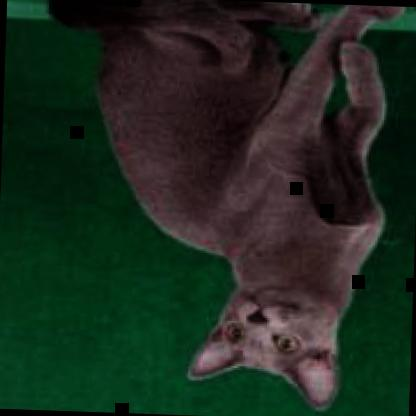cat: (32, 0, 407, 413)
